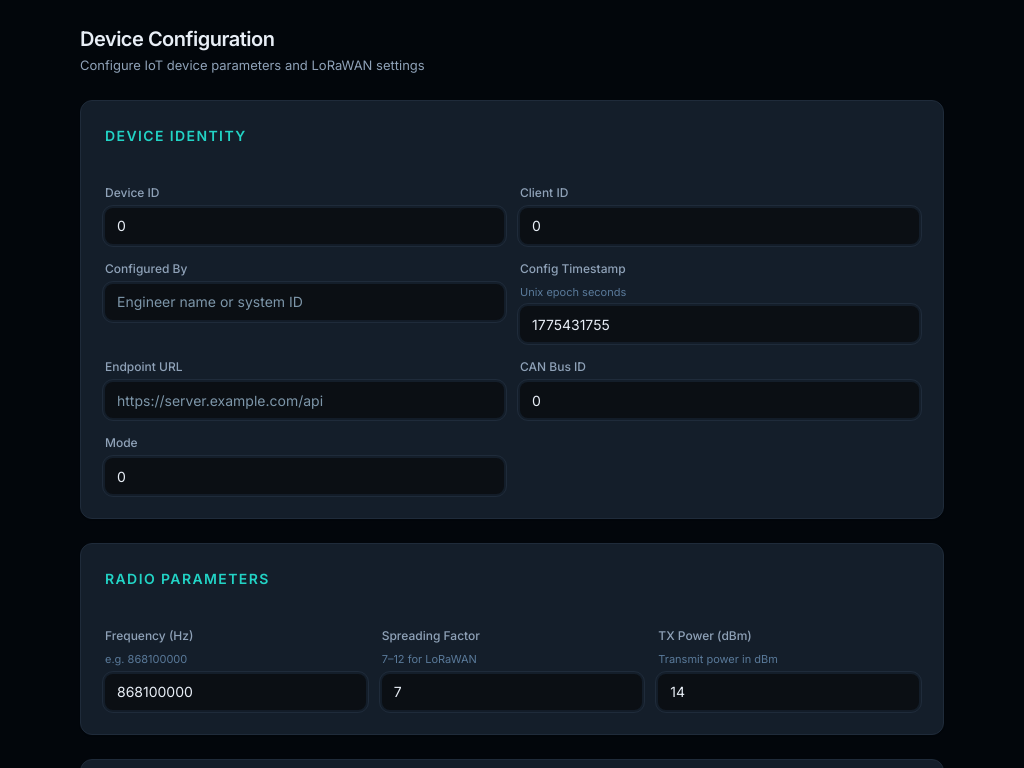
DeviceConfigPage › shows validation error when configured_by is empty
Note: Clear configured_by
Clear the field labelled "Configured By" at point(304, 302), box x1=105 y1=284 x2=504 y2=320
(page scrolled)
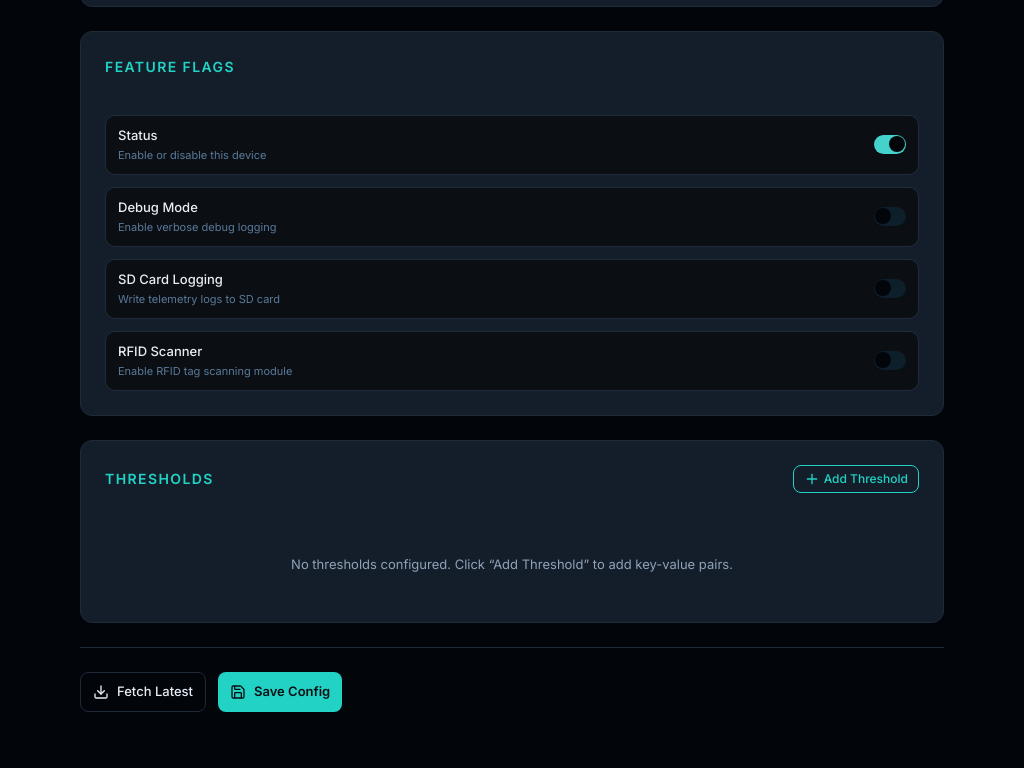
Note: Clear endpoint_URL too to trigger multiple errors (already empty by default)
Click the button "Save Config" at point(280, 692), box x1=218 y1=672 x2=342 y2=712
(page scrolled)
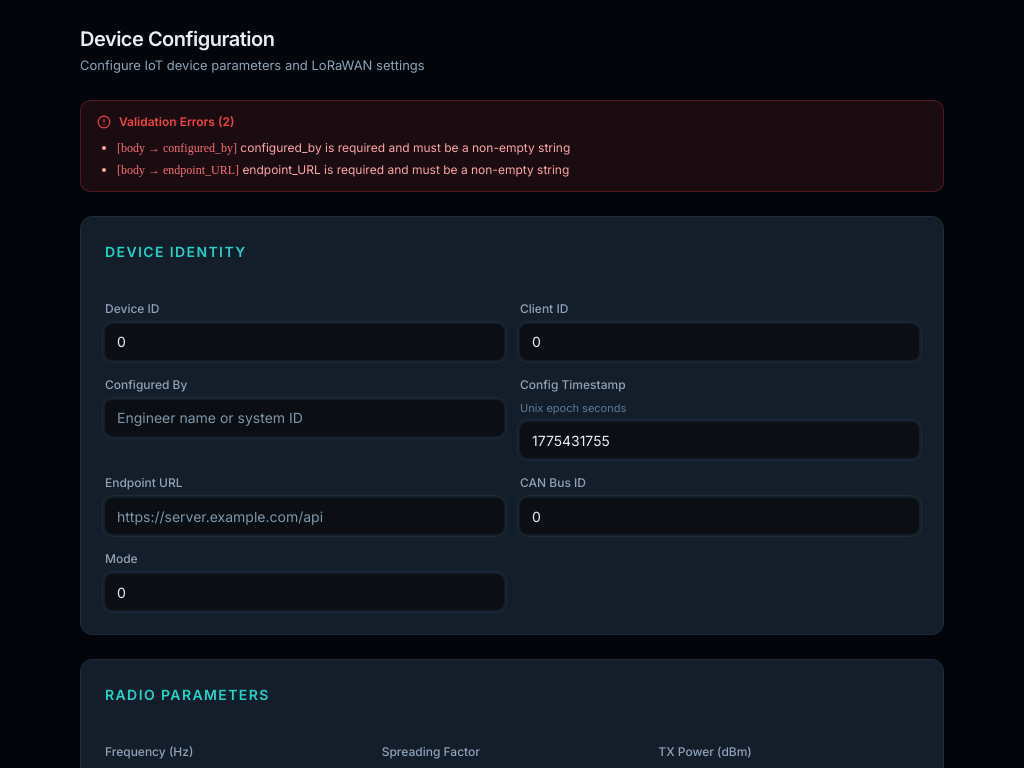
Check: the text "Validation Errors (2)" is shown, box x1=119 y1=112 x2=234 y2=130
Check: the list item "configured_by is required" is shown, box x1=240 y1=140 x2=570 y2=154
